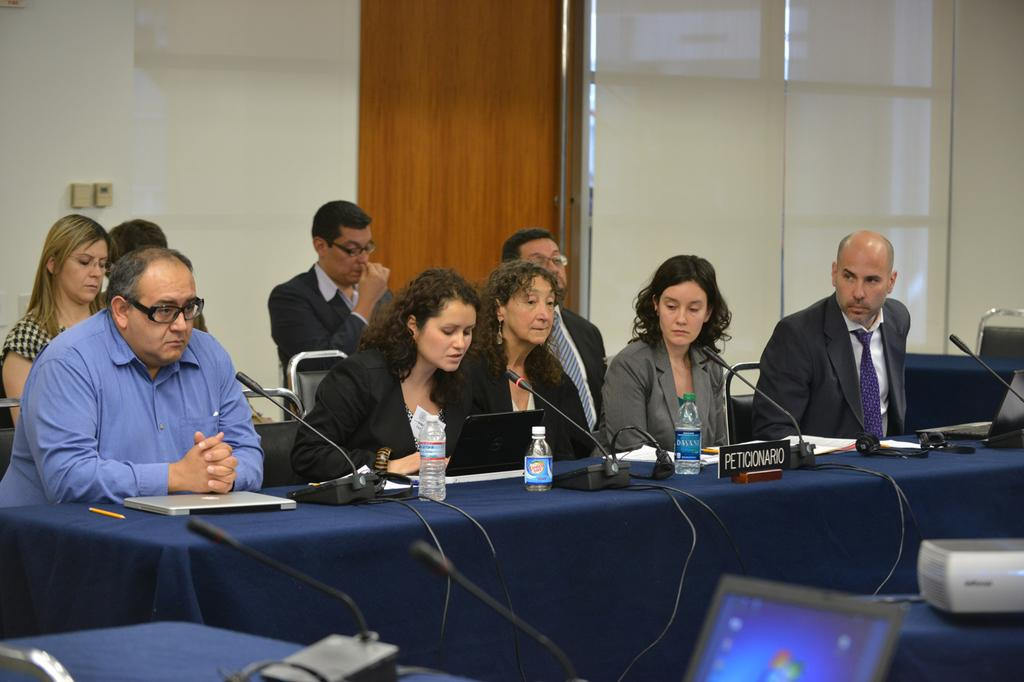Sem Máscara: (125, 279, 196, 363), (417, 301, 472, 369), (836, 251, 886, 324), (504, 274, 554, 343), (58, 238, 106, 302), (658, 278, 705, 338), (322, 226, 369, 281), (520, 236, 564, 294)
